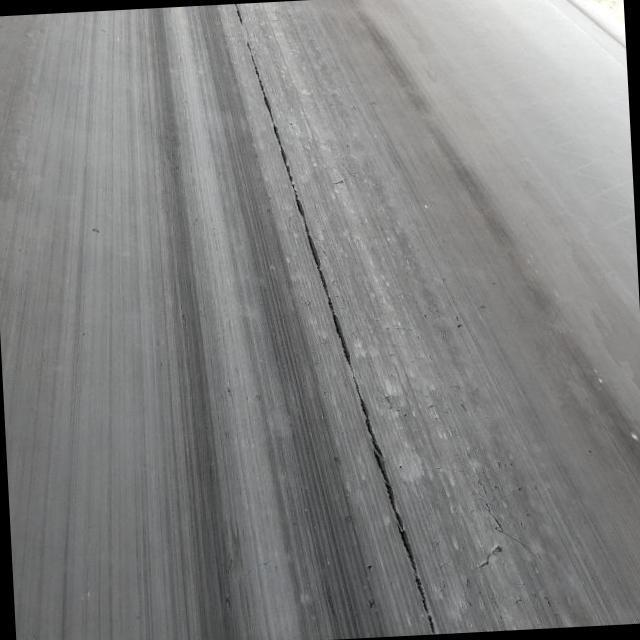Tear: (232, 0, 447, 634)
